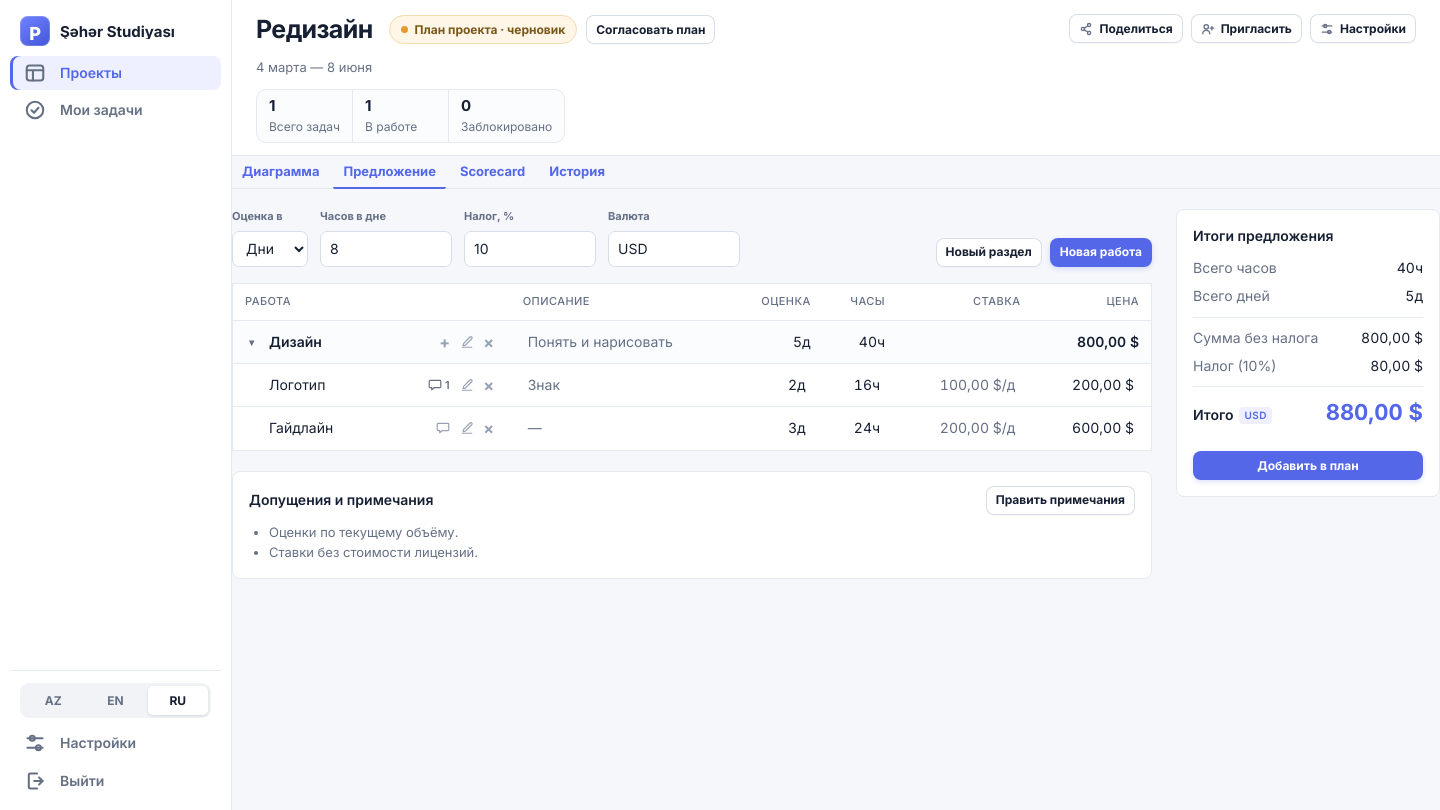
Test: вкладка предложения › знак «править» на строке открывает карточку с подробностями и обсуждением
What coordinates should you click on to do the following:
click the button named "Править работу «Логотип»"
I would click on:
 (467, 385)
Its box is [457,375,477,395].
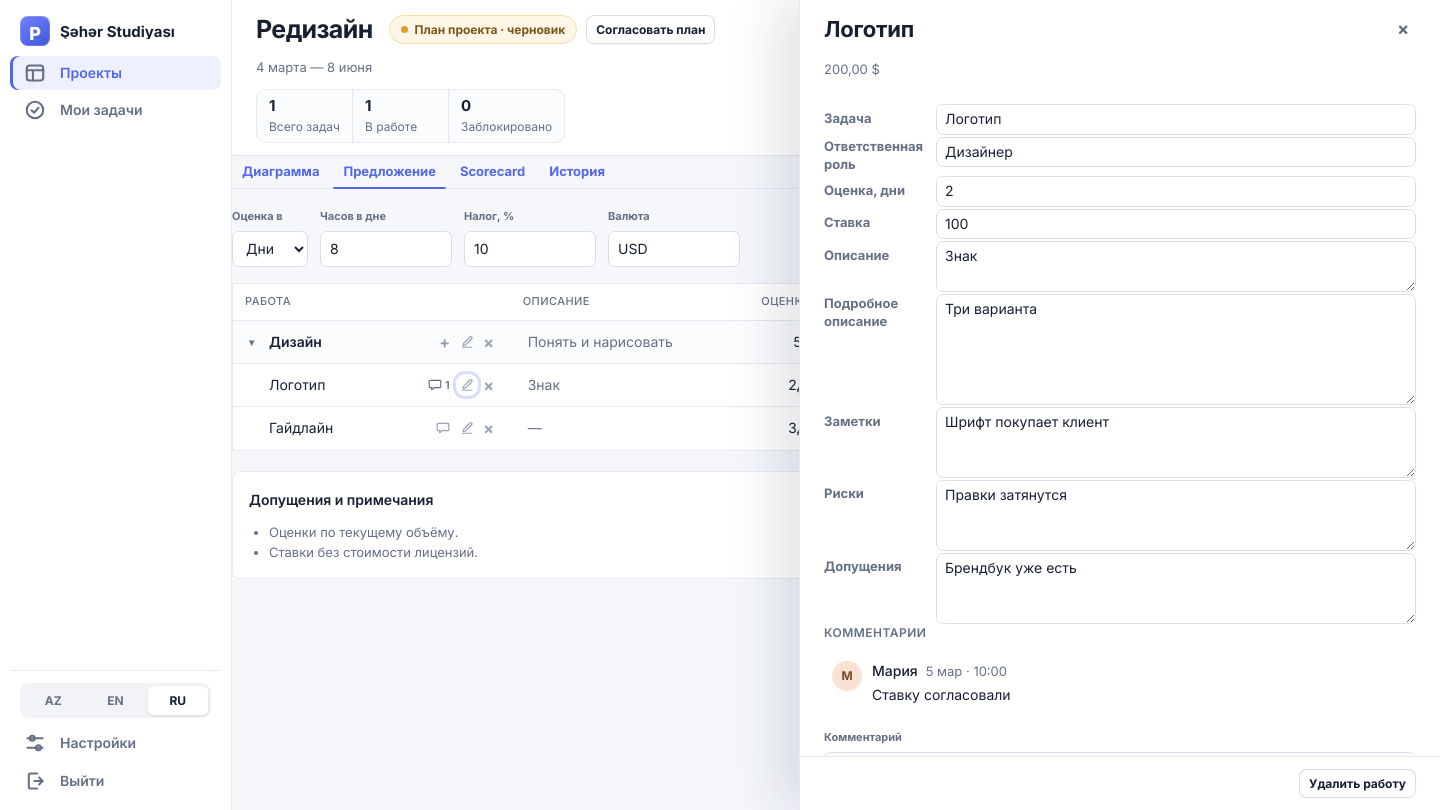
Expected: the text box labelled "Подробное описание" holds "Три варианта", [936,294,1416,405]
Expected: the text box labelled "Заметки" holds "Шрифт покупает клиент", [936,407,1416,478]
Expected: the text box labelled "Риски" holds "Правки затянутся", [936,480,1416,551]
